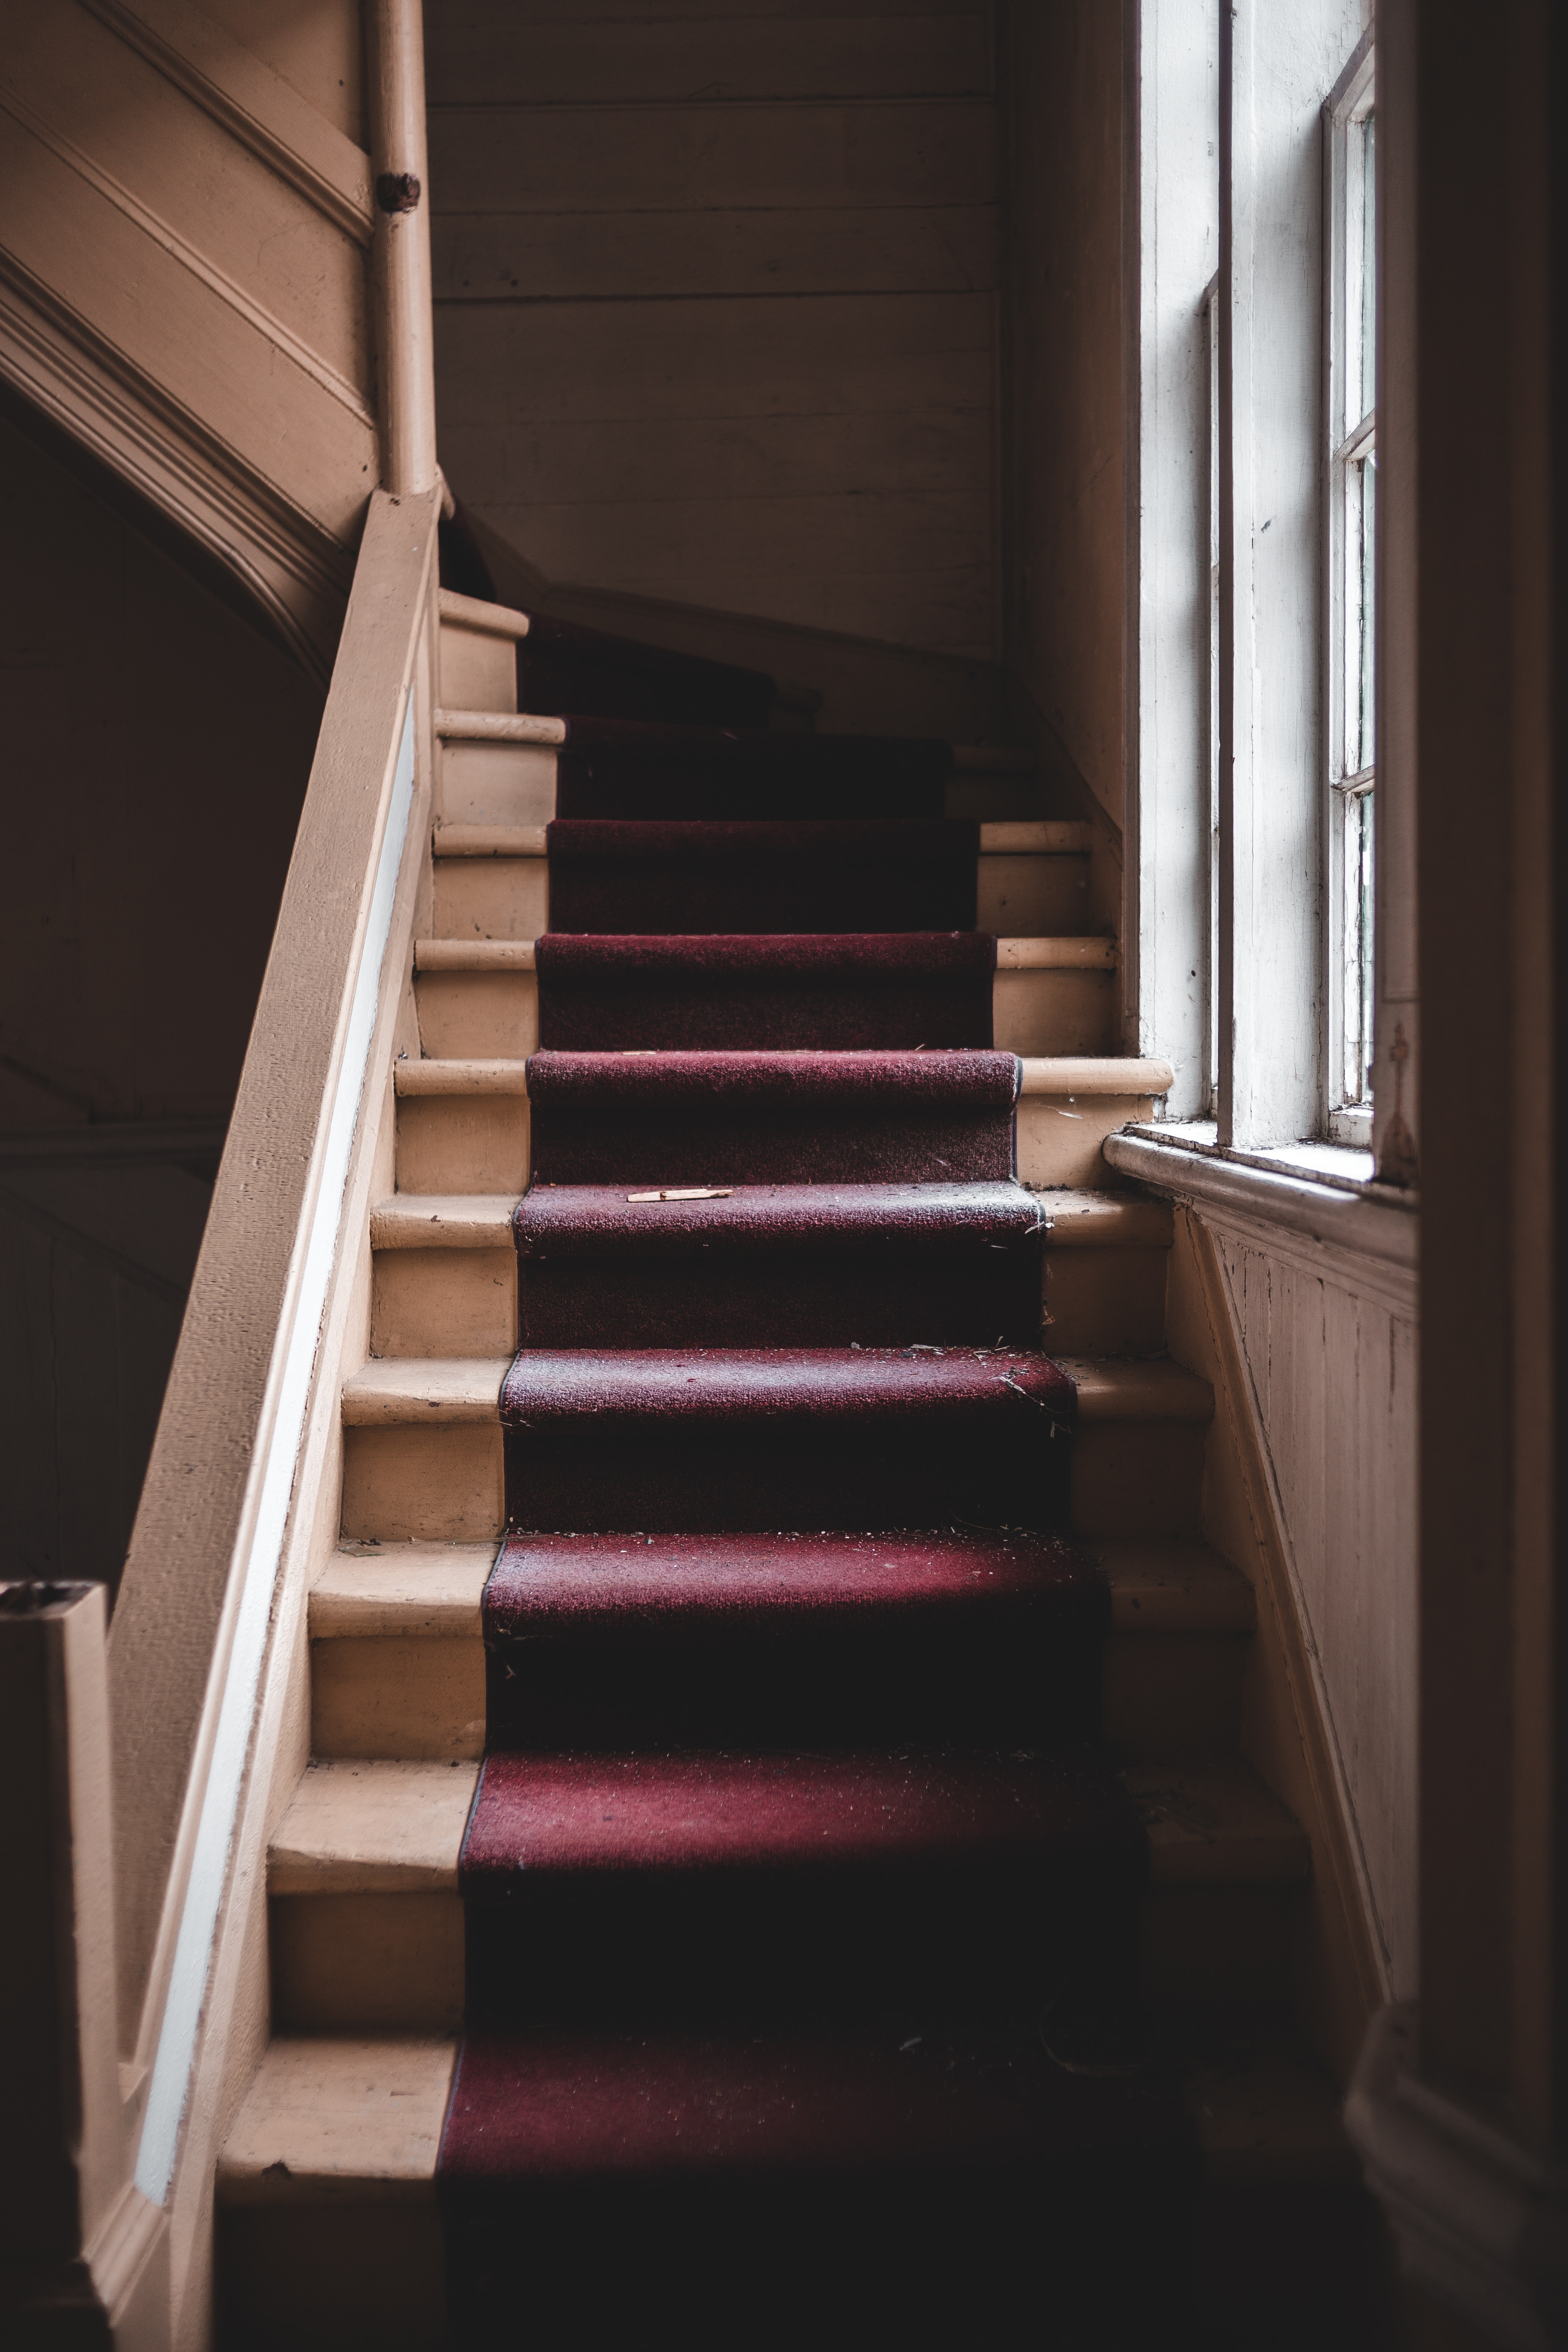upstairs: (404, 1085, 1122, 2350)
